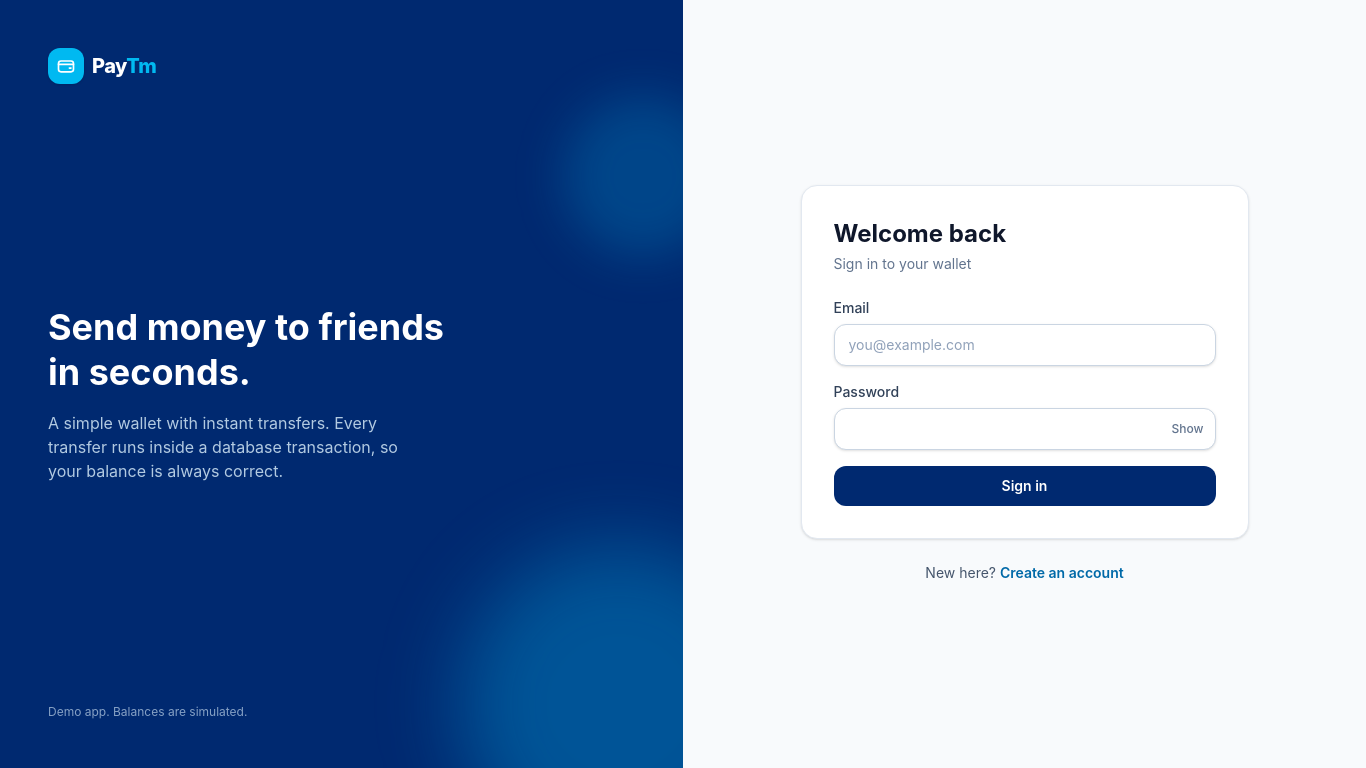
Test case: Signin › shows the server error on bad credentials
In the field labelled "Email": (1024, 345) x1=834 y1=324 x2=1216 y2=366, type "ana@example.com"
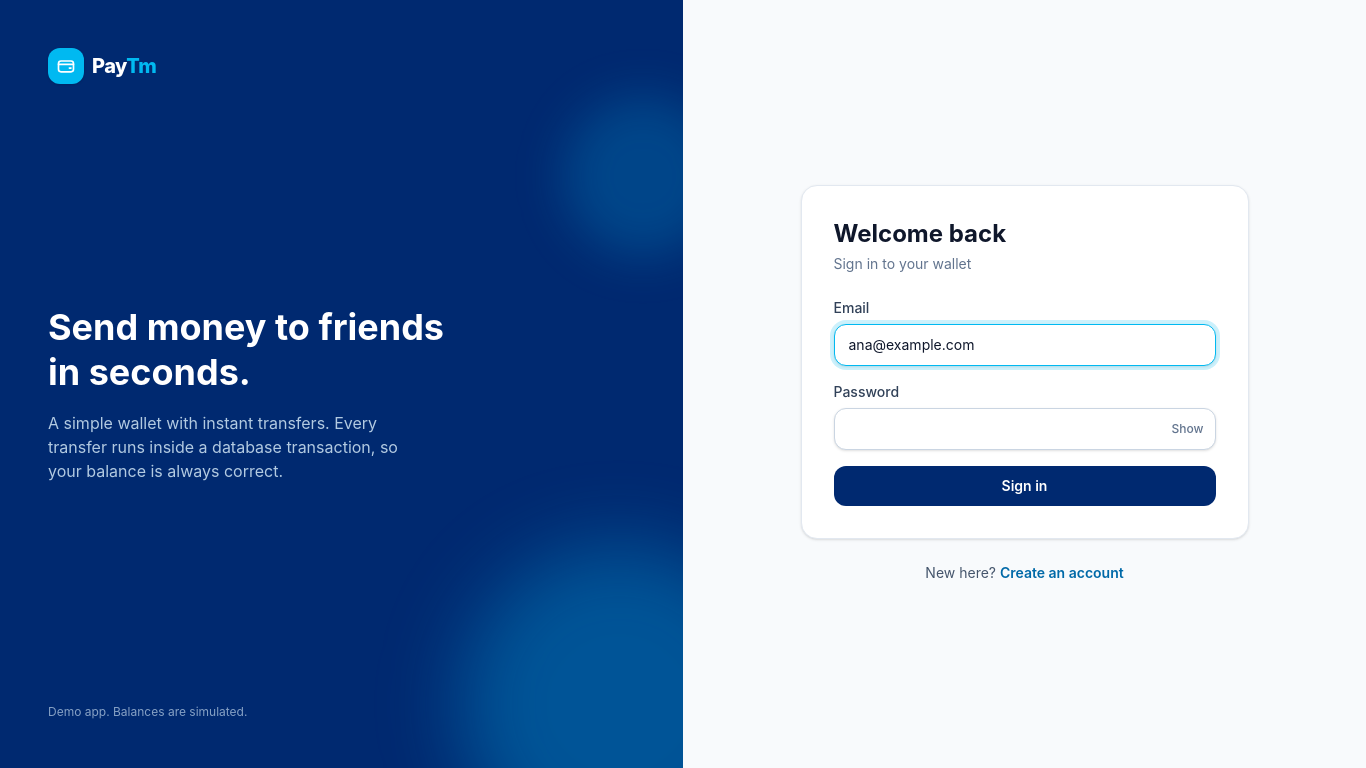
In the password field labelled "Password": (1024, 429) x1=834 y1=408 x2=1216 y2=450, type "wrong-pass"
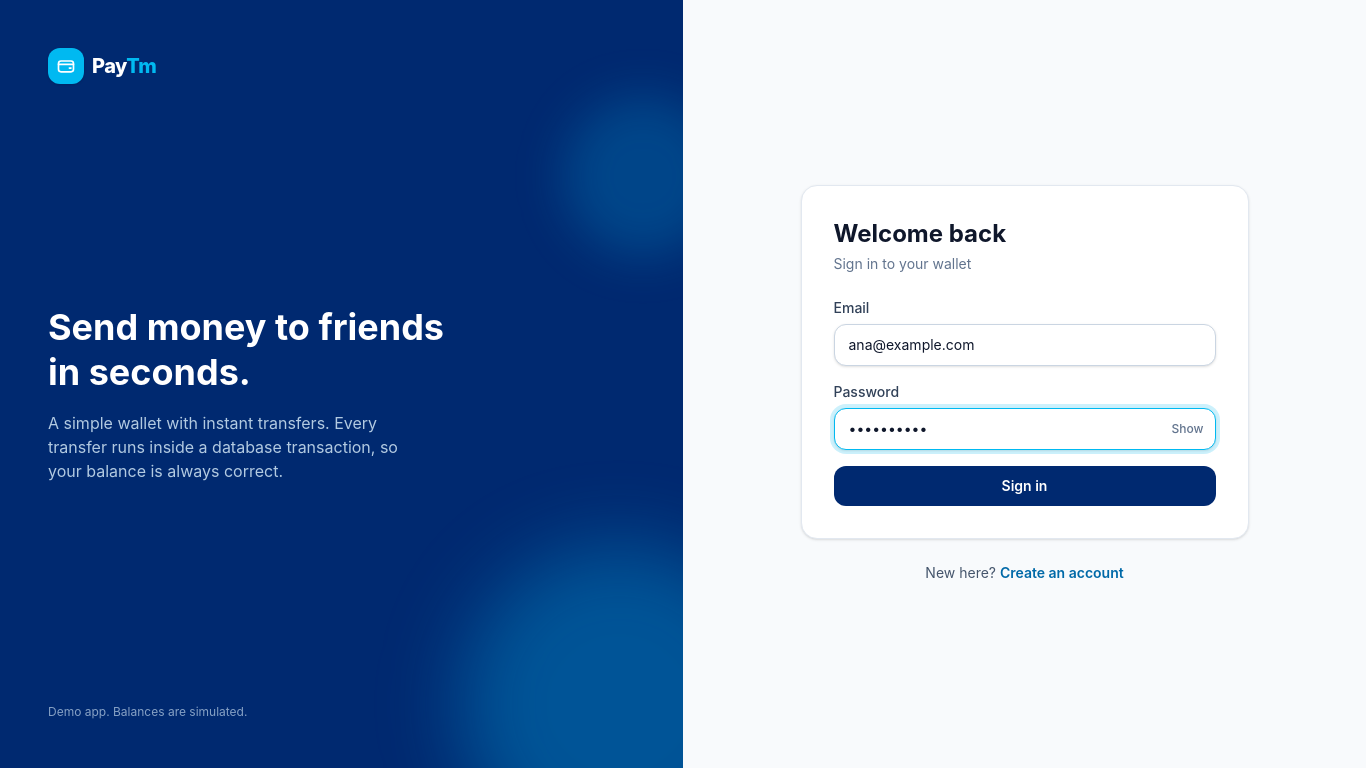
Click the button "Sign in": (1024, 486) x1=834 y1=466 x2=1216 y2=506
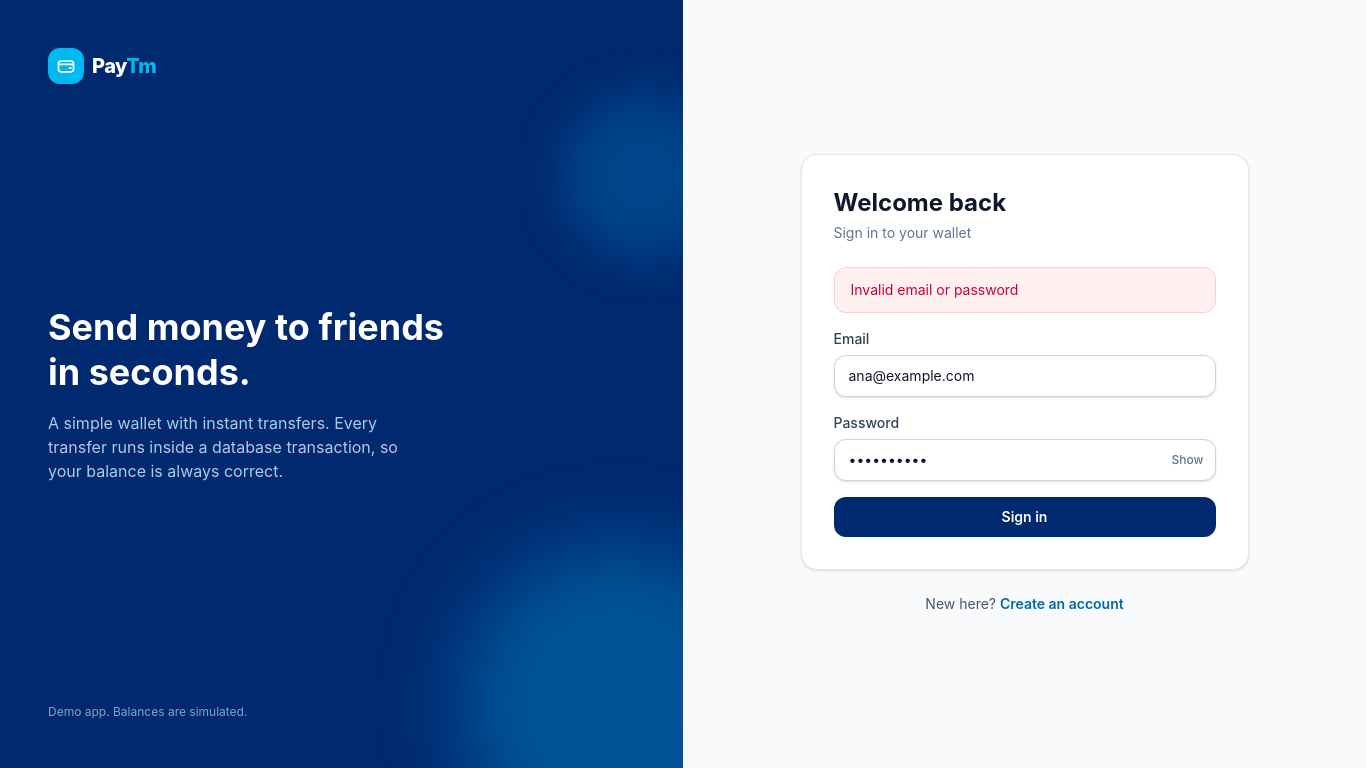
expect the message reads "Invalid email or password": met, box x1=850 y1=281 x2=1018 y2=298
